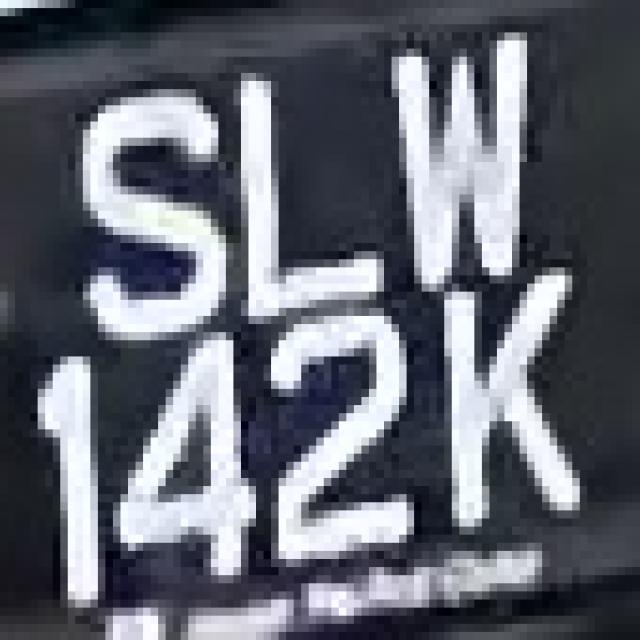1: (38, 340, 113, 616)
2: (249, 292, 429, 583)
4: (106, 308, 286, 599)
K: (429, 251, 595, 543)
L: (218, 57, 399, 324)
S: (53, 81, 218, 340)
W: (362, 25, 558, 284)
